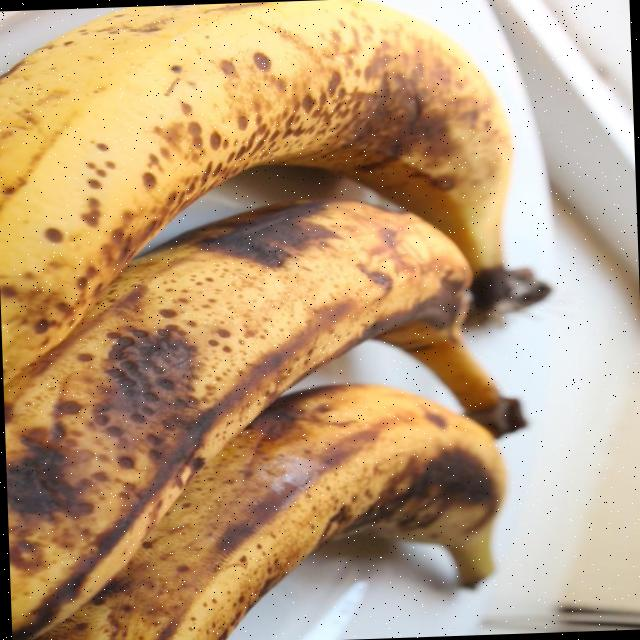banana: (3, 198, 471, 640), (0, 0, 510, 362), (24, 381, 505, 640)
